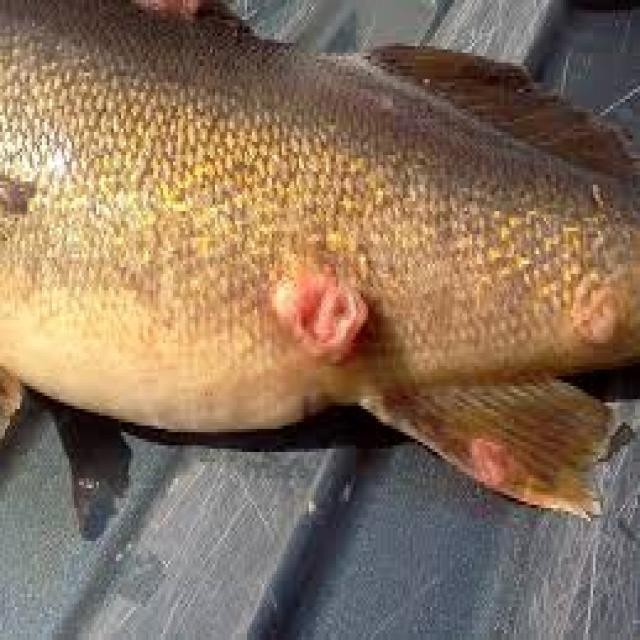EUS Disease: (1, 1, 640, 529), (131, 239, 640, 492)
